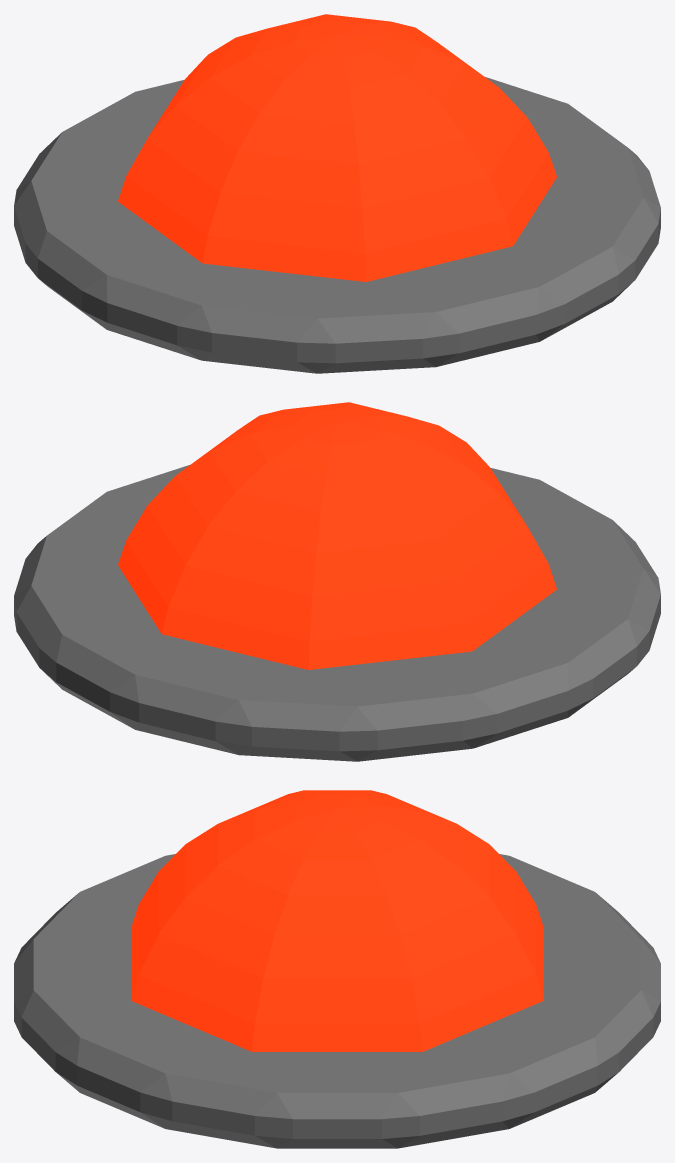
The model's file is Alarm LED.fbx.
3 renders of one model, top to bottom at view 1: azimuth 30°, elevation 25°; view 2: azimuth 150°, elevation 25°; view 3: azimuth 270°, elevation 25°, orthographic.
Parts seen in each view (by area): view 1: alarm, base; view 2: alarm, base; view 3: alarm, base.
Part boxes in pixels (x1,y1,x2,y2): alarm: [118, 14, 556, 281]; base: [14, 77, 660, 373]; alarm: [118, 402, 556, 669]; base: [14, 465, 660, 761]; alarm: [131, 790, 543, 1051]; base: [14, 854, 660, 1148].
Size of the model in its own units: 3.98 by 1.43 by 3.98.
